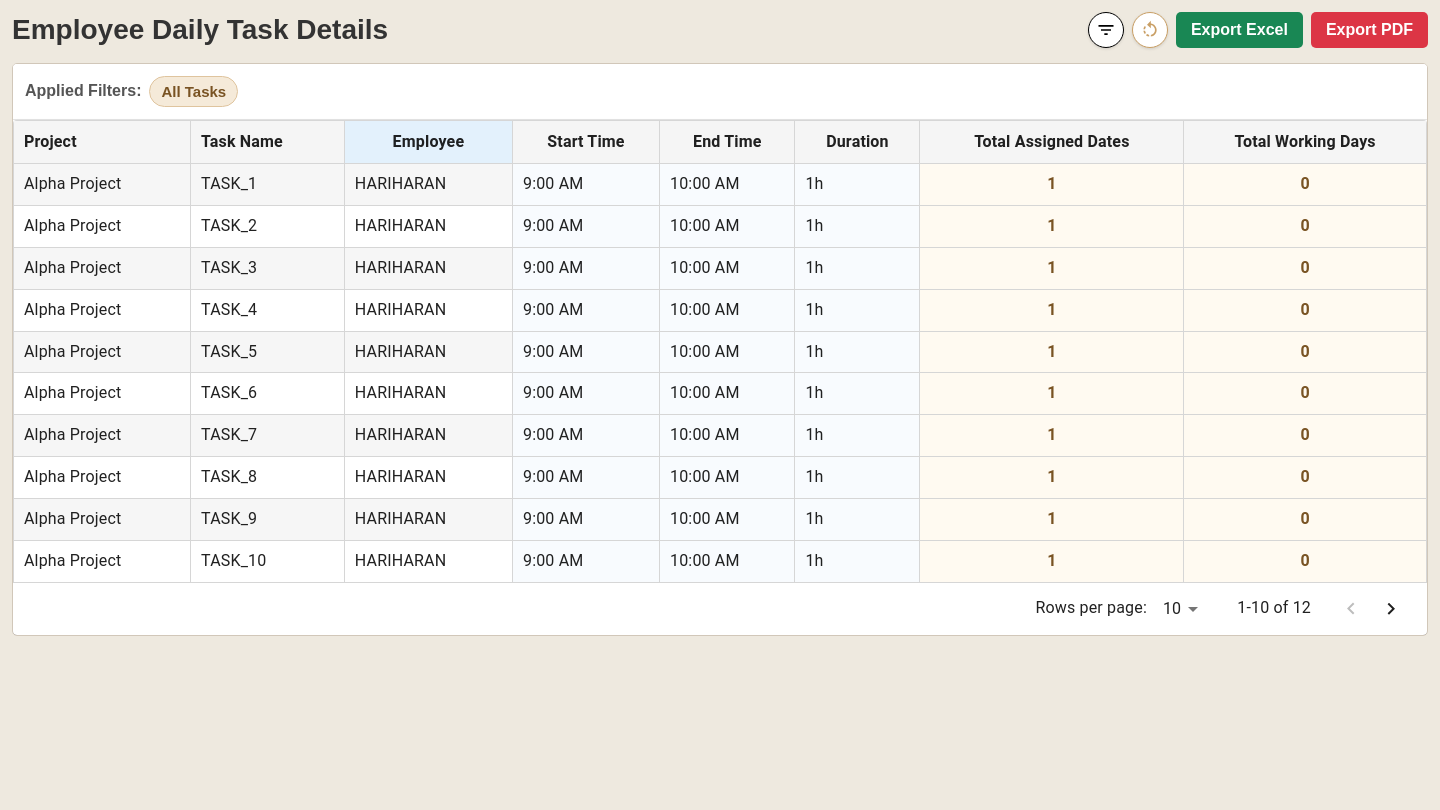
Test case: MyList Page (Employee Daily Task Details) › paginates 10 rows per page with FilterableTable TablePagination
The image size is (1440, 810).
Expected: the text "1-10 of 12" is shown, [1237,597,1311,620]
Expected: the button named "Go to previous page" is disabled, [1331,589,1371,629]
Click the button named "Go to next page". click: [1391, 609]
box: [1371,589,1411,629]
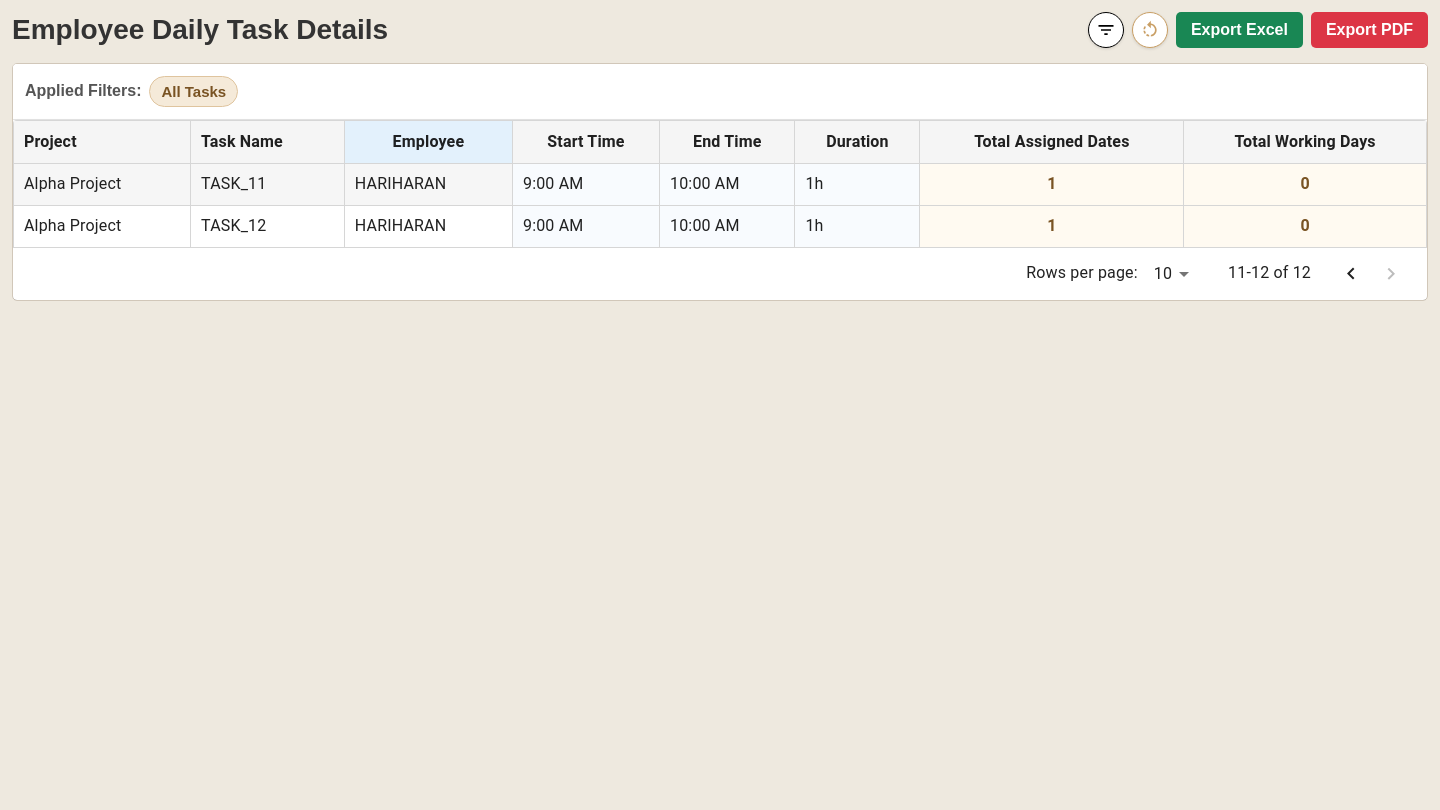
Result: the text "11-12 of 12" is shown at [1228,262,1311,285]
Result: the button named "Go to previous page" is enabled at [1331,254,1371,294]
Result: the button named "Go to next page" is disabled at [1371,254,1411,294]
